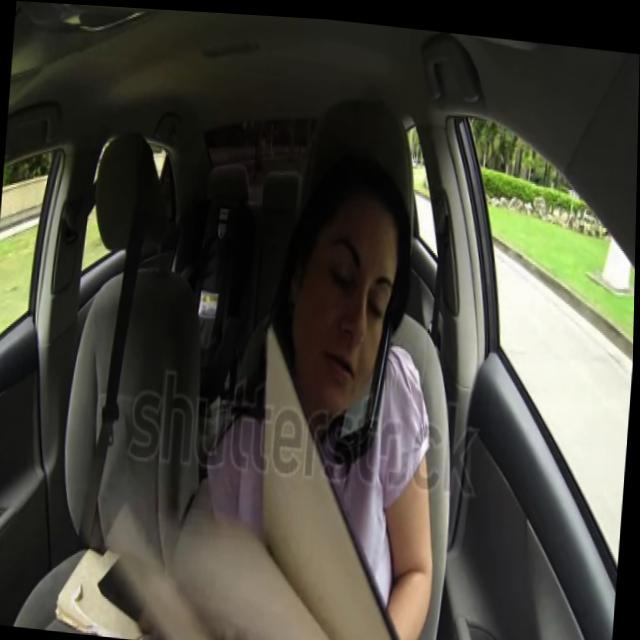PhoneCall: (335, 307, 390, 450)
